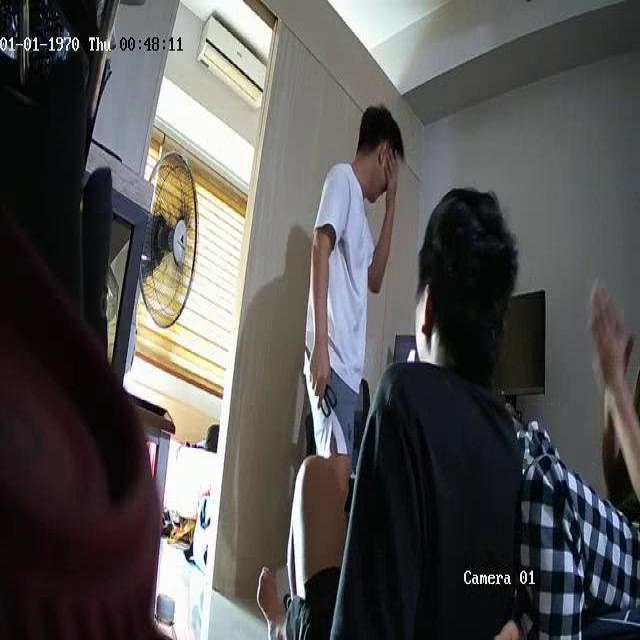scissor: (305, 346, 336, 416)
